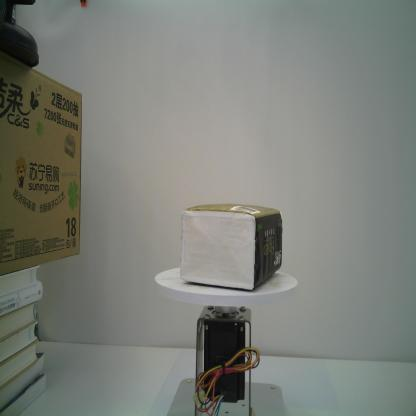Tissue: (179, 202, 284, 292)
